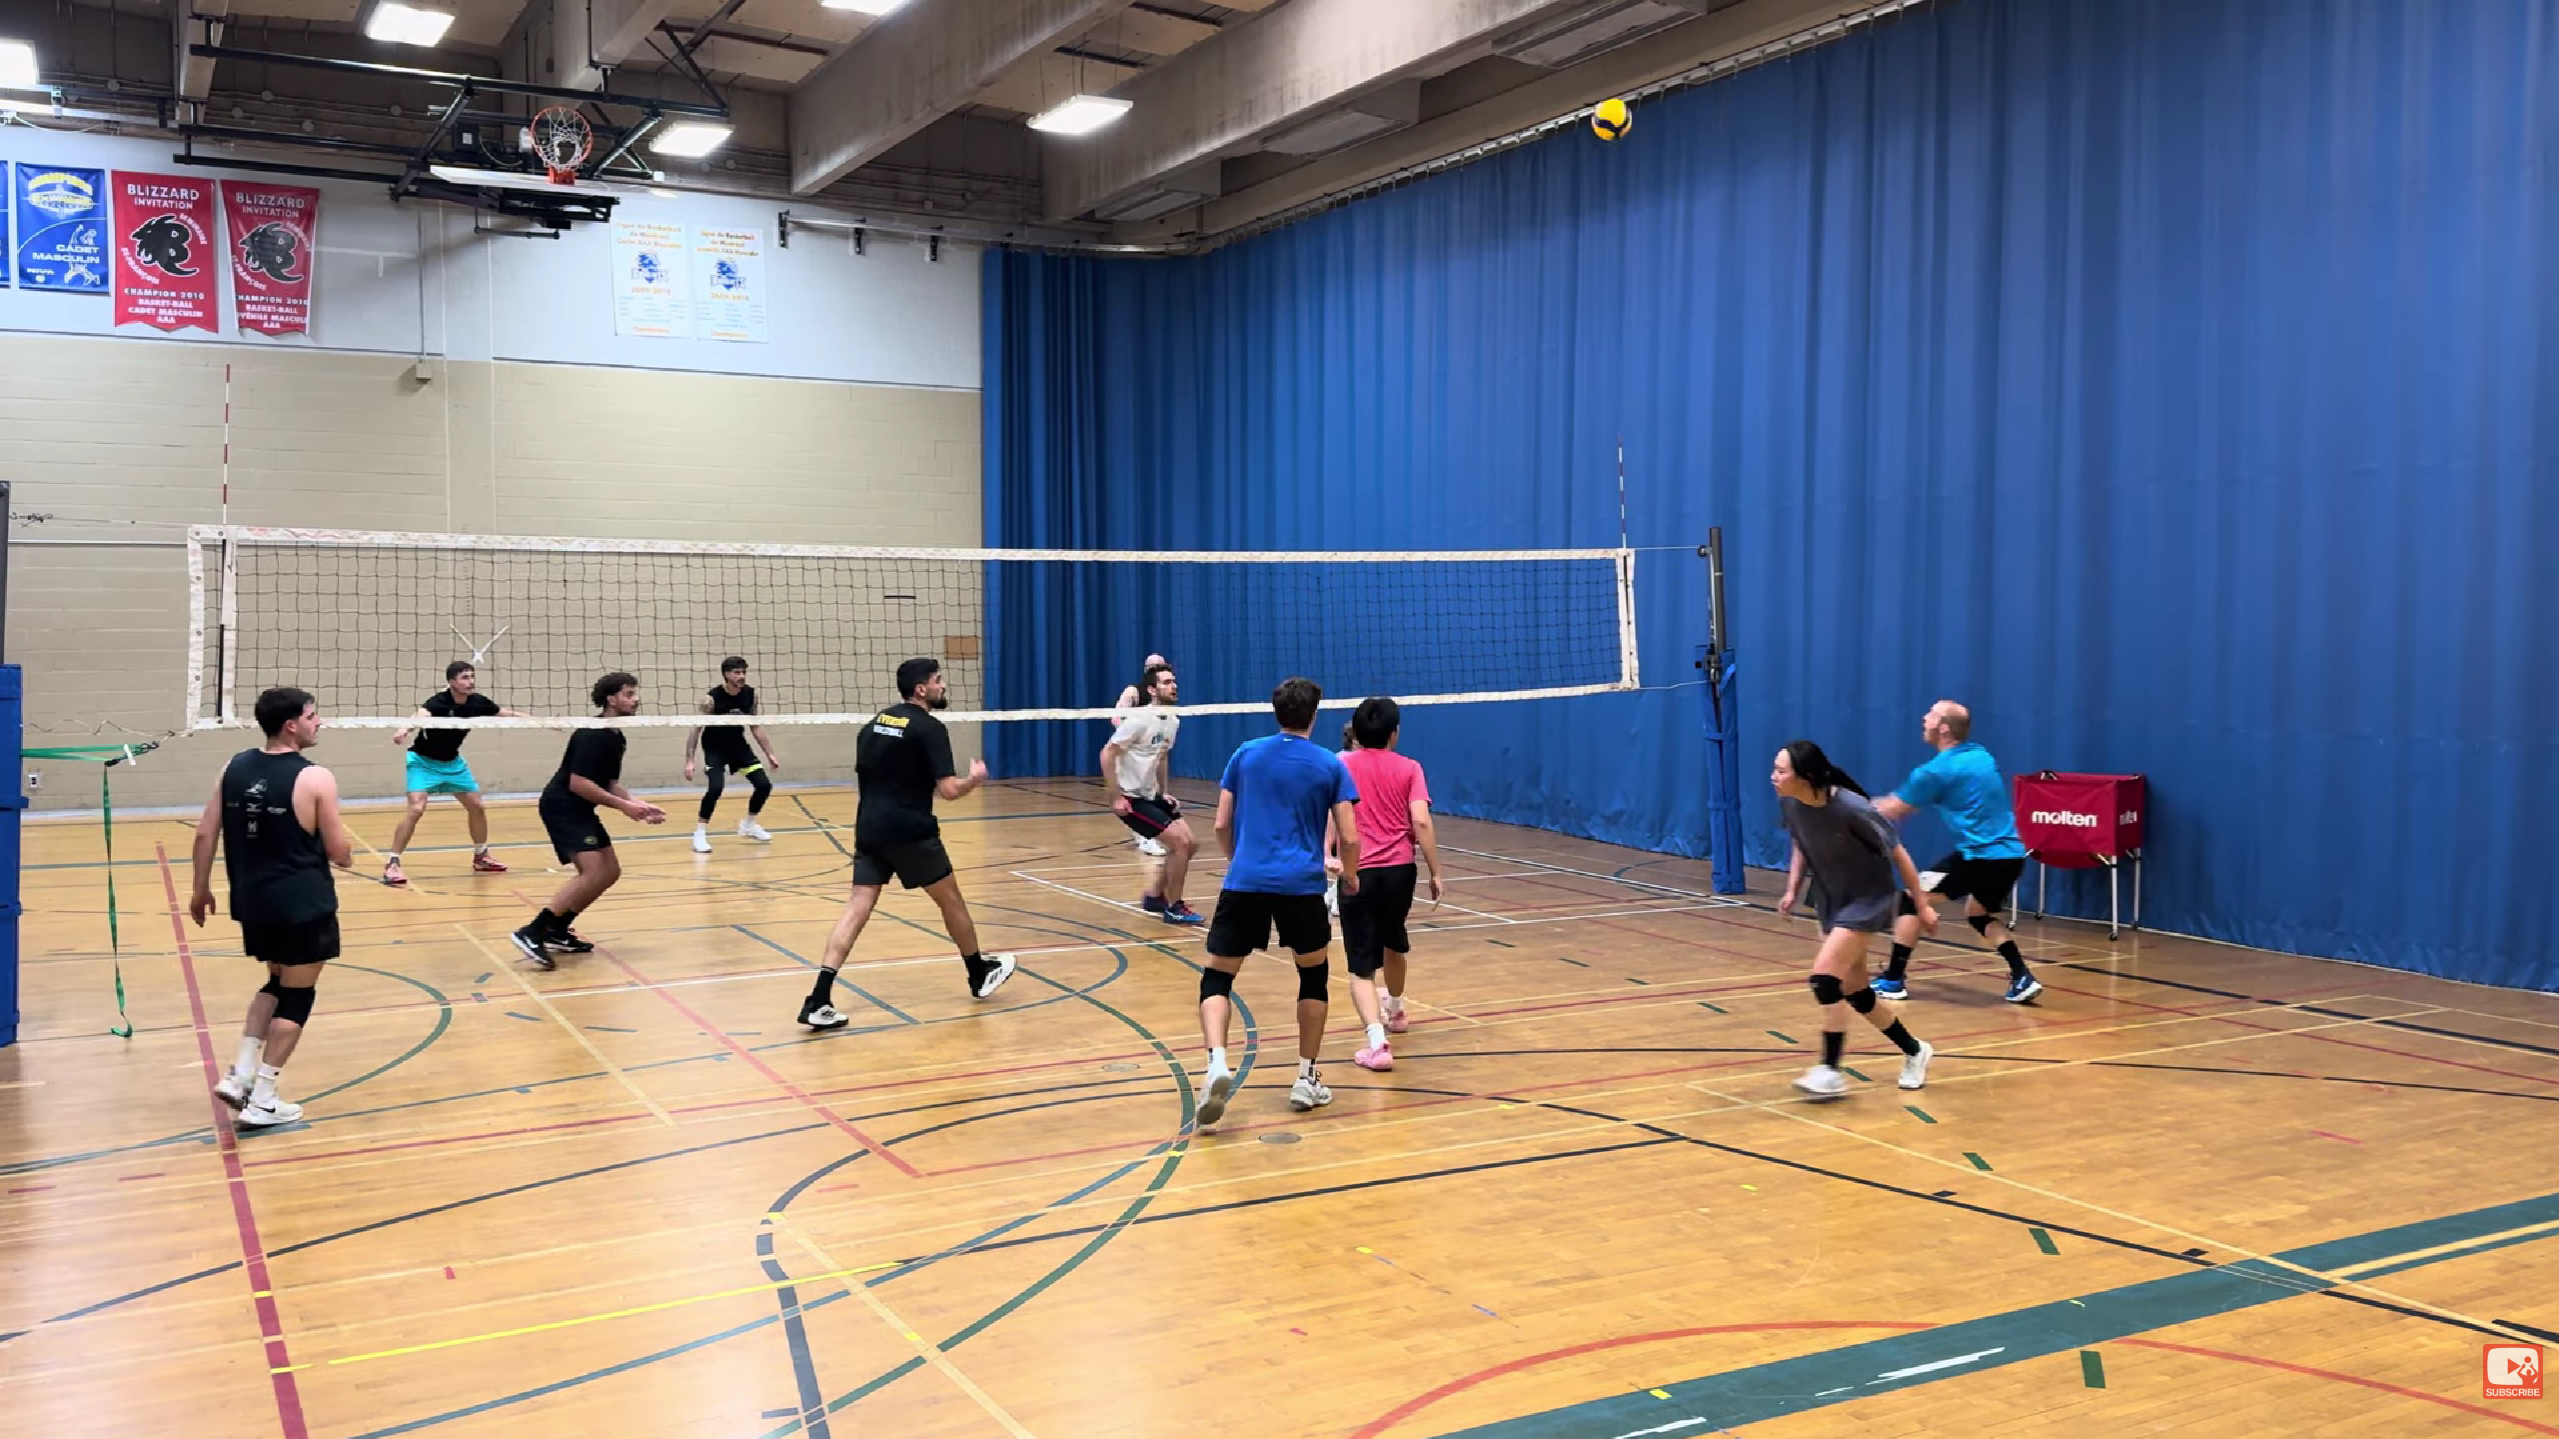Ball: (1589, 97, 1635, 142)
